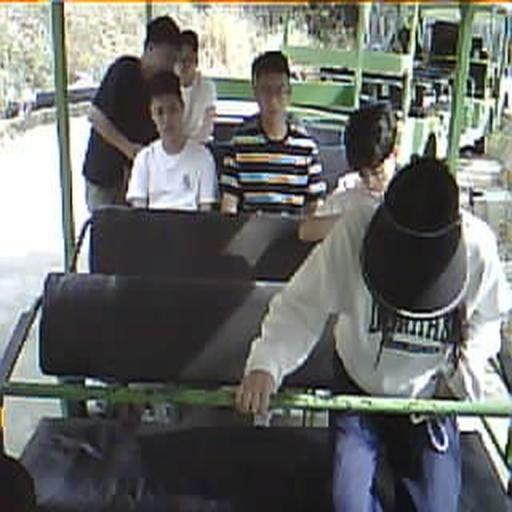persona: (234, 148, 512, 511), (218, 50, 328, 219), (126, 70, 220, 213), (326, 100, 400, 214), (170, 31, 216, 141)
